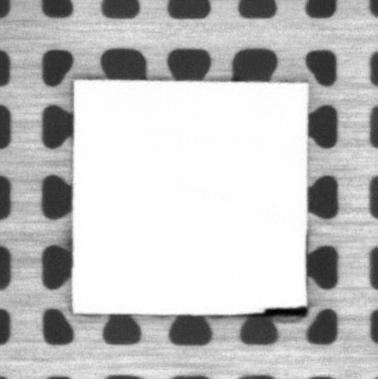DIE_BROKEN: (262, 304, 307, 317)
